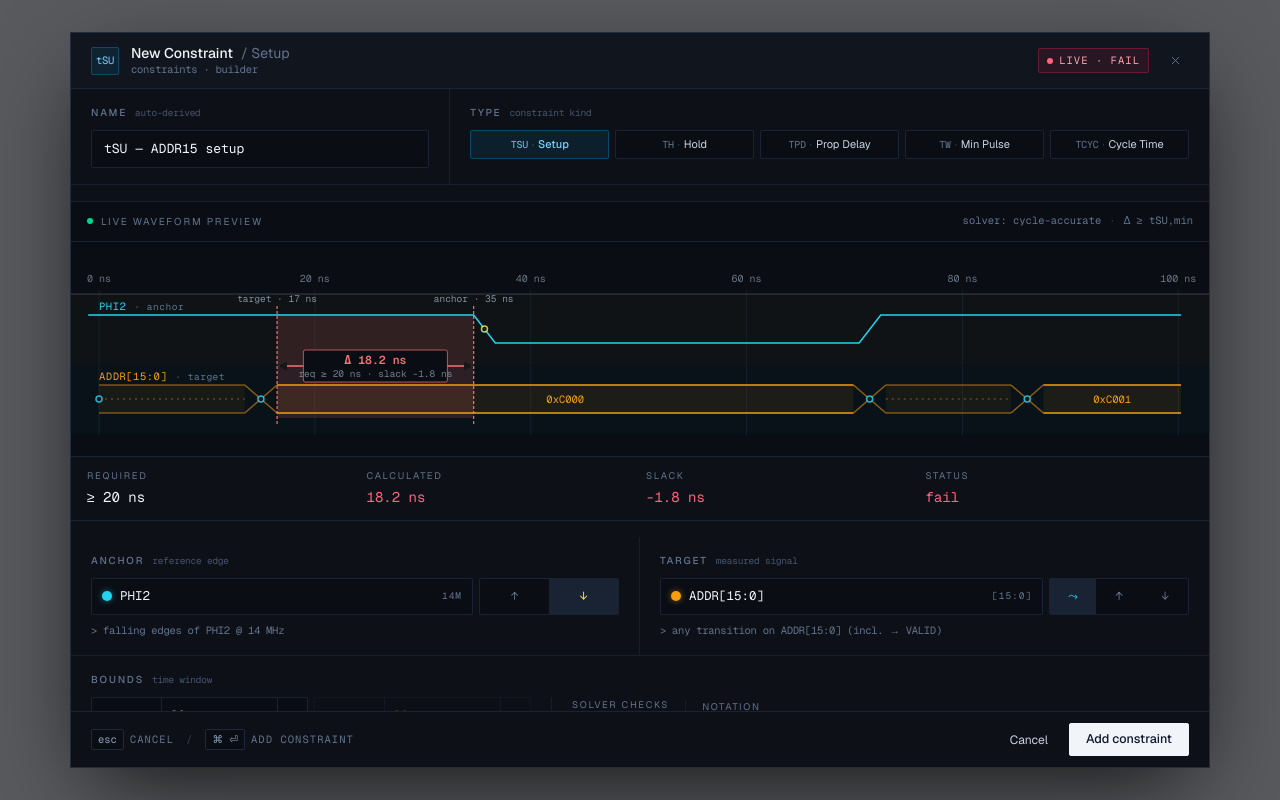
Test: <ConstraintBuilder /> › MIN_PULSE collapses target to same signal and disables the target picker
Step 1. Click the button "tW · Min Pulse" → (975, 145), box [905, 130, 1044, 159]
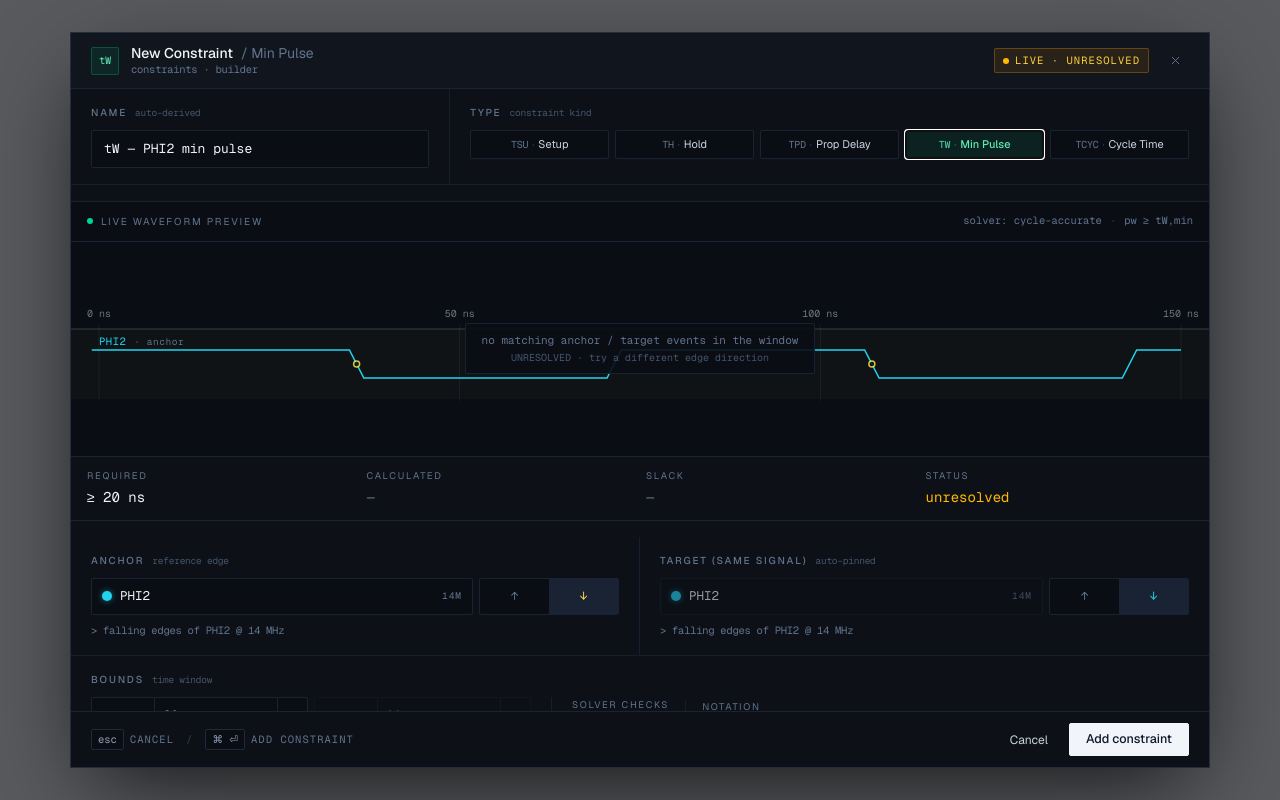
expect the dropdown named "target" is disabled: met, box [689, 587, 1004, 606]
expect the dropdown named "target" shows "PHI2": met, box [689, 587, 1004, 606]
Step 2. Select "ADDR[15:0]" in the dropdown named "anchor signal" → (277, 596), box [120, 587, 434, 606]
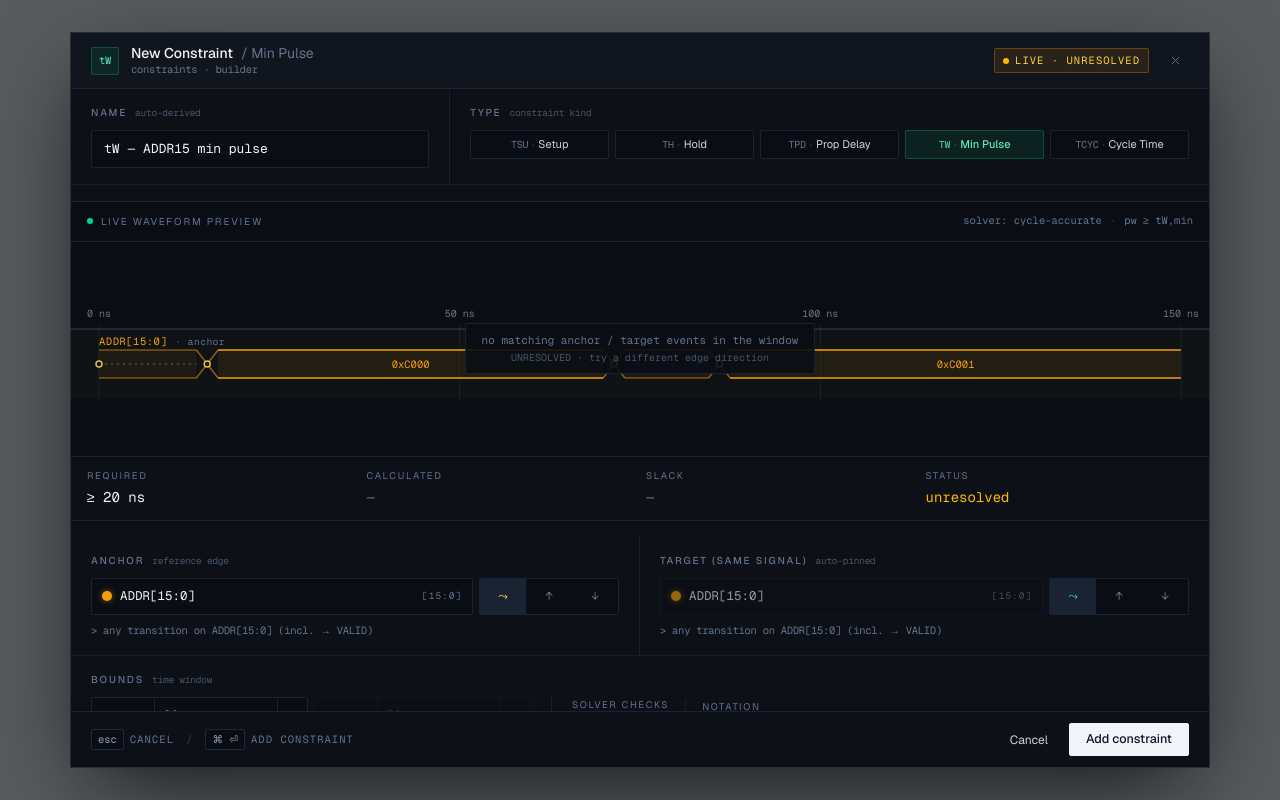
expect the dropdown named "target" shows "ADDR[15:0]": met, box [689, 587, 984, 606]
